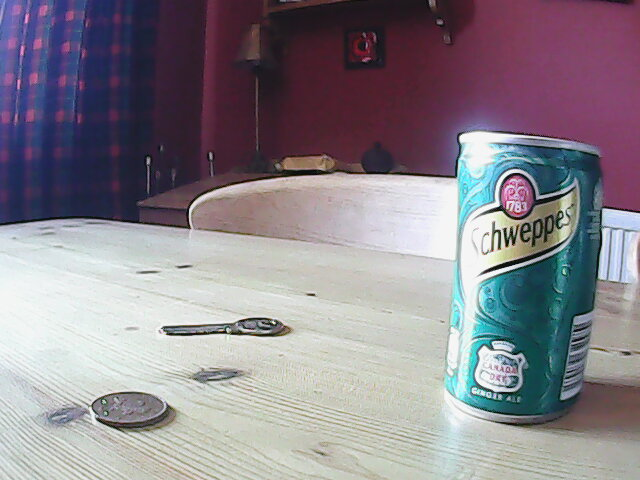Can: (440, 125, 606, 428)
Coin: (90, 391, 171, 430)
Key: (156, 315, 289, 340)
